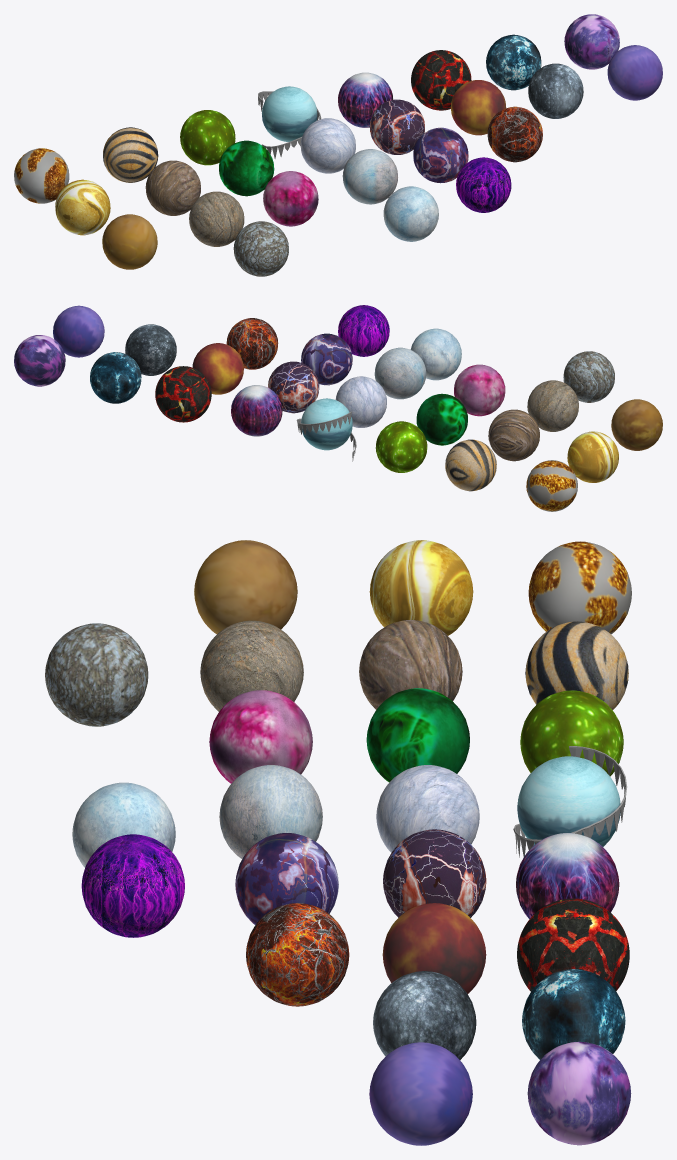
File: Planet models(2).FBX
The picture shows the model from 3 angles, top to bottom: view 1: azimuth 30°, elevation 25°; view 2: azimuth 150°, elevation 25°; view 3: azimuth 270°, elevation 25°; orthographic projection. The views are drawn at different scales.
Parts seen in each view (by area): view 1: Fire_planet_1, Money_planet_3, Uknown_planet_2, Money_planet_2, Storm_planet_2, Toxic_planet_3, ice_planet_4, Fire_planet_3, Ice_planet_3, Plasma_planet_4, Earth_planet_3, Tiger_planet (+14 smaller); view 2: Fire_planet_1, Tiger_planet, Storm_planet_1, Uknown_planet_1, Plasma_planet_1, Earth_planet_2, Money_planet_3, Money_planet_1, Toxic_planet_1, Money_planet_2, Toxic_planet_2, earth_planet _3 (+14 smaller); view 3: Uknown_planet_2, Plasma_planet_4, Fire_planet_3, Uknown_planet_1, Earth_planet_3, Fire_planet_1, Money_planet_3, Money_planet_2, Money_planet_1, Toxic_planet_2, Toxic_planet_3, Plasma_planet_2 (+14 smaller).
Part boxes in pixels (x1,y1,x2,y2): Fire_planet_1: (411, 50, 471, 110); Money_planet_3: (102, 214, 157, 269); Uknown_planet_2: (607, 45, 662, 100); Money_planet_2: (55, 179, 110, 235); Storm_planet_2: (528, 63, 583, 118); Toxic_planet_3: (263, 171, 318, 226); ice_planet_4: (383, 186, 438, 241); Fire_planet_3: (487, 106, 542, 162); Ice_planet_3: (342, 149, 397, 204); Plasma_planet_4: (456, 157, 511, 212); Earth_planet_3: (233, 221, 288, 276); Tiger_planet: (103, 127, 158, 182); Fire_planet_1: (155, 366, 211, 422); Tiger_planet: (445, 439, 496, 491); Storm_planet_1: (90, 352, 141, 403); Uknown_planet_1: (14, 335, 65, 386); Plasma_planet_1: (231, 385, 282, 436); Earth_planet_2: (488, 409, 539, 461); Money_planet_3: (611, 399, 662, 450); Money_planet_1: (526, 460, 577, 511); Toxic_planet_1: (375, 421, 427, 472); Money_planet_2: (567, 431, 618, 482); Toxic_planet_2: (416, 393, 467, 445); earth_planet _3: (527, 380, 578, 431); Uknown_planet_2: (369, 1042, 472, 1145); Plasma_planet_4: (81, 834, 184, 937); Fire_planet_3: (246, 903, 349, 1006); Uknown_planet_1: (527, 1041, 631, 1145); Earth_planet_3: (45, 623, 148, 726); Fire_planet_1: (517, 898, 629, 991); Money_planet_3: (194, 540, 297, 634); Money_planet_2: (369, 540, 473, 635); Money_planet_1: (528, 541, 631, 634); Toxic_planet_2: (366, 688, 469, 782); Toxic_planet_3: (209, 690, 312, 783); Plasma_planet_2: (383, 829, 486, 917).
Bounding box in the file's own units: 870 × 87.77 × 395.
